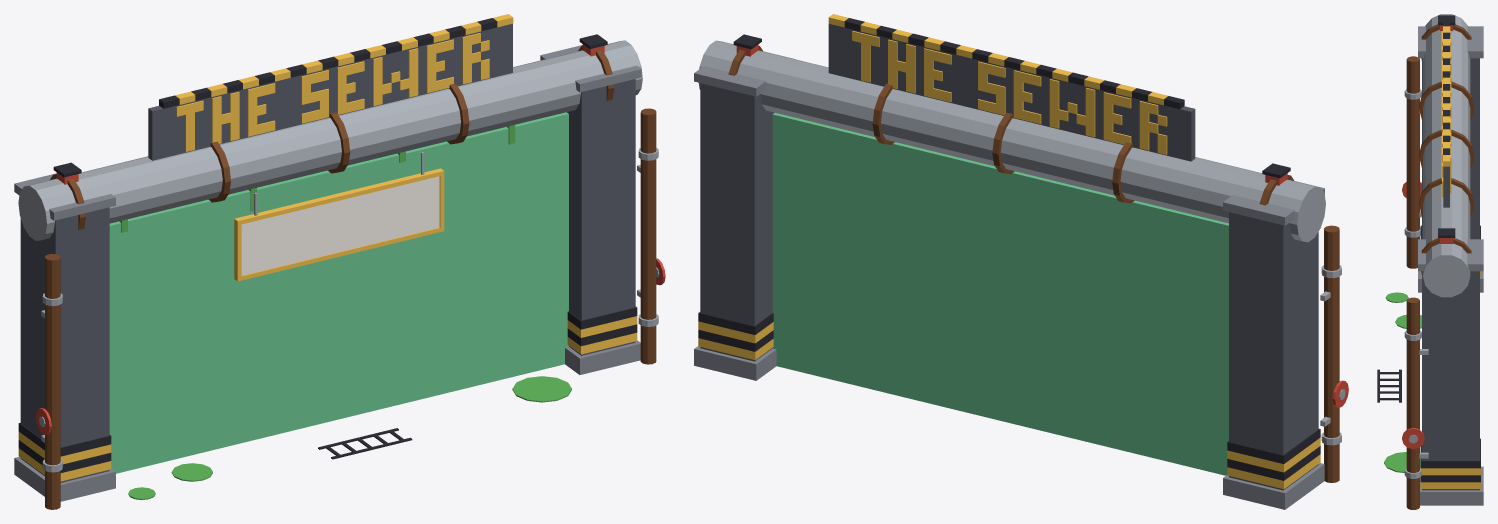
File: CatCafe_Sewer_Gate.glb
The picture shows the model from 3 angles, left to right: view 1: azimuth 30°, elevation 25°; view 2: azimuth 150°, elevation 25°; view 3: azimuth 270°, elevation 25°; orthographic projection. The views are drawn at different scales.
Visible parts, largest first — view 1: CatCafe_Sewer_Gate, CatCafe_Sewer_Gate_Bars, CatCafe_Sewer_Gate_SignBoard; view 2: CatCafe_Sewer_Gate_Bars, CatCafe_Sewer_Gate; view 3: CatCafe_Sewer_Gate.
Part boxes in pixels (x1,y1,x2,y2): CatCafe_Sewer_Gate: [14, 14, 665, 509]; CatCafe_Sewer_Gate_Bars: [109, 112, 568, 473]; CatCafe_Sewer_Gate_SignBoard: [241, 176, 439, 275]; CatCafe_Sewer_Gate_Bars: [772, 113, 1228, 475]; CatCafe_Sewer_Gate: [694, 14, 1348, 509]; CatCafe_Sewer_Gate: [1377, 14, 1483, 509].
Size of the model in its own units: 31.1 by 17.3 by 5.6.
1 material, 1 textured.
